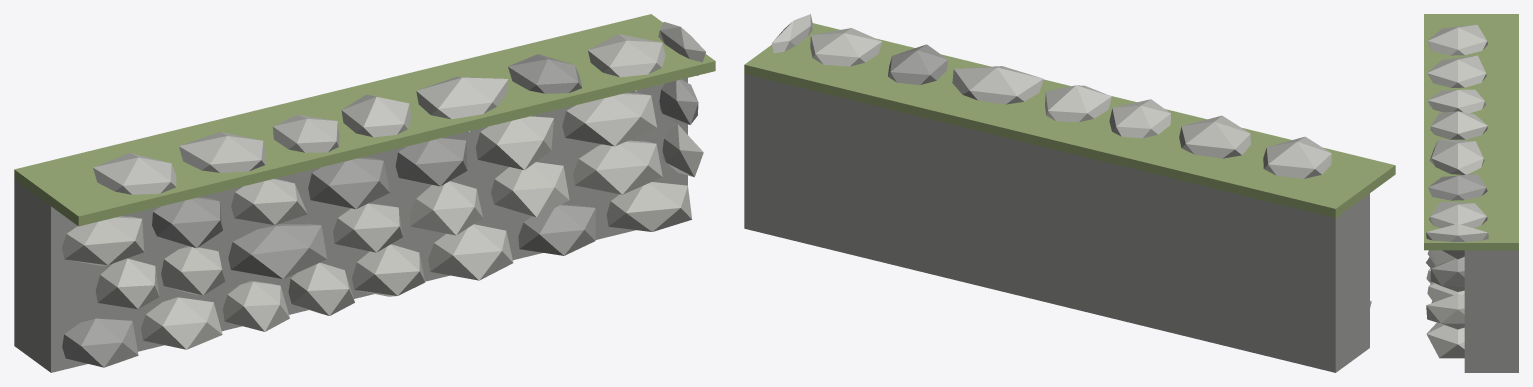
File: ishigaki.glb
3 views of the same model, side by side, from view 1: azimuth 30°, elevation 25°; view 2: azimuth 150°, elevation 25°; view 3: azimuth 270°, elevation 25° (orthographic). The views are drawn at different scales.
Parts seen in each view (by area): view 1: ishigaki; view 2: ishigaki; view 3: ishigaki.
Boxes of the visible parts, x1,y1,x2,y2 form: ishigaki: (14, 14, 715, 372); ishigaki: (744, 14, 1395, 372); ishigaki: (1424, 14, 1518, 372).
Size of the model in its own units: 4 by 1.22 by 0.7.
